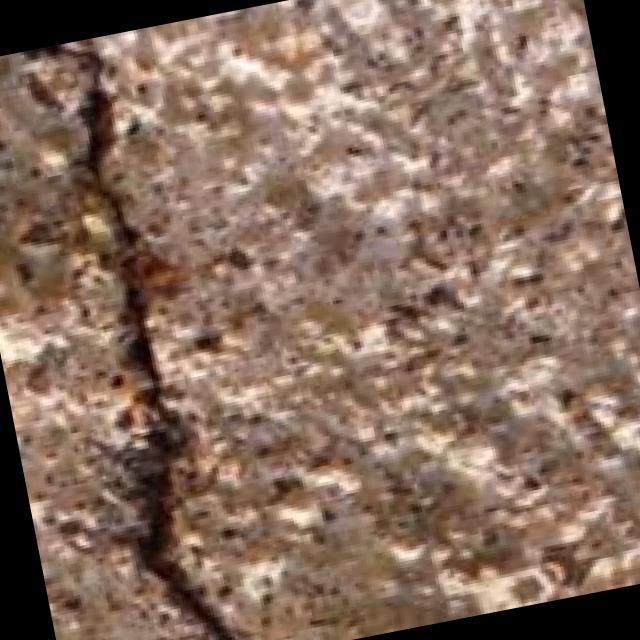crack: (7, 24, 286, 640)
